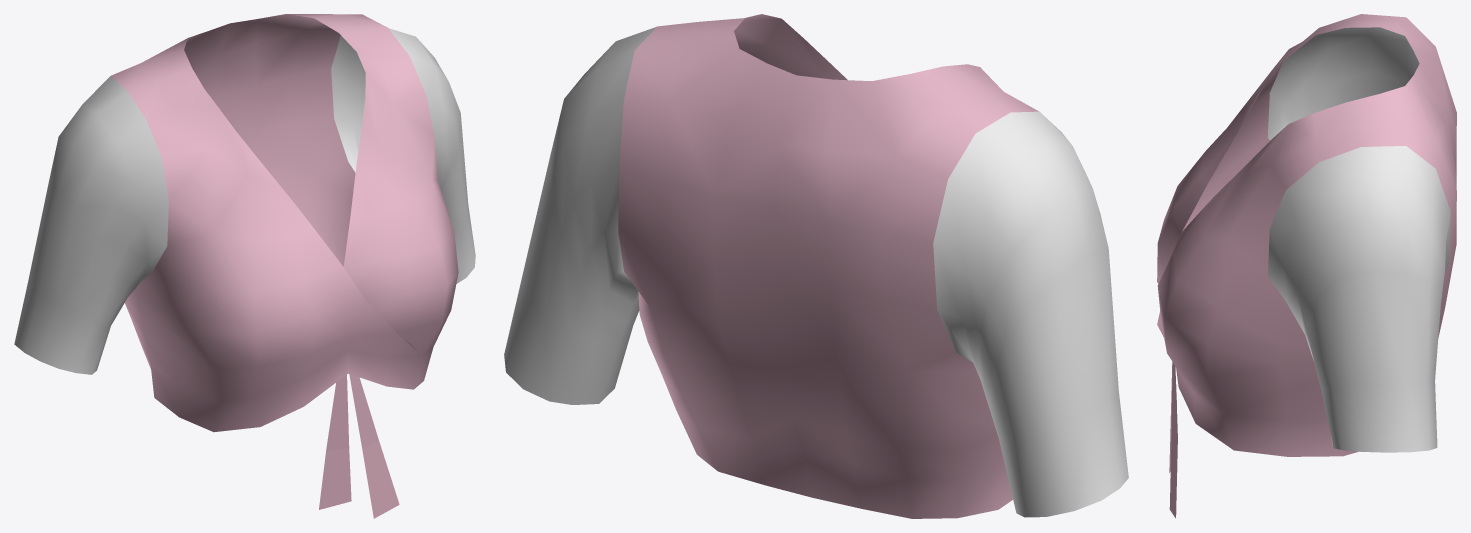
The model's file is blouse_17.glb.
3 renders of one model, left to right at view 1: azimuth 30°, elevation 25°; view 2: azimuth 150°, elevation 25°; view 3: azimuth 270°, elevation 25°, orthographic. The views are drawn at different scales.
Parts seen in each view (by area): view 1: blouse_17; view 2: blouse_17; view 3: blouse_17.
Part boxes in pixels (left/top/right/bottom): blouse_17: left=14, top=14, right=475, bottom=518; blouse_17: left=504, top=14, right=1128, bottom=518; blouse_17: left=1157, top=14, right=1456, bottom=518.
Bounding box in the file's own units: 0.4427 × 0.3971 × 0.2471.
